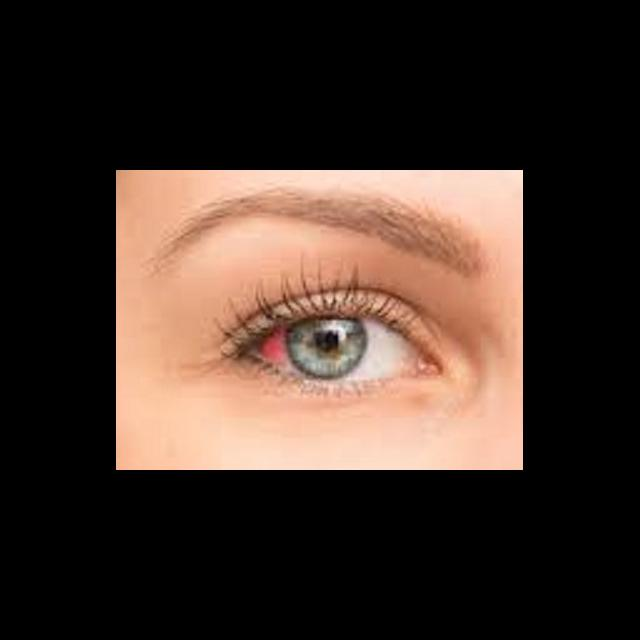eye: (256, 313, 414, 383)
iris: (289, 314, 366, 381)
